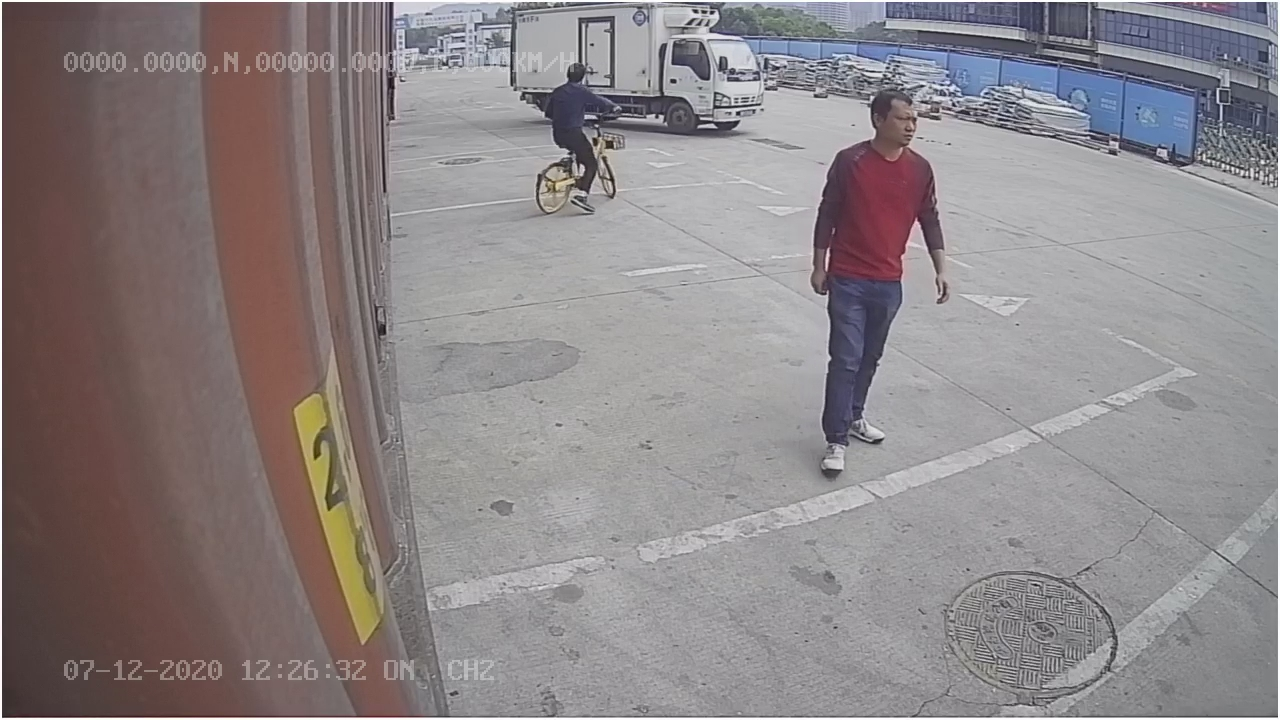person: (807, 86, 955, 478)
